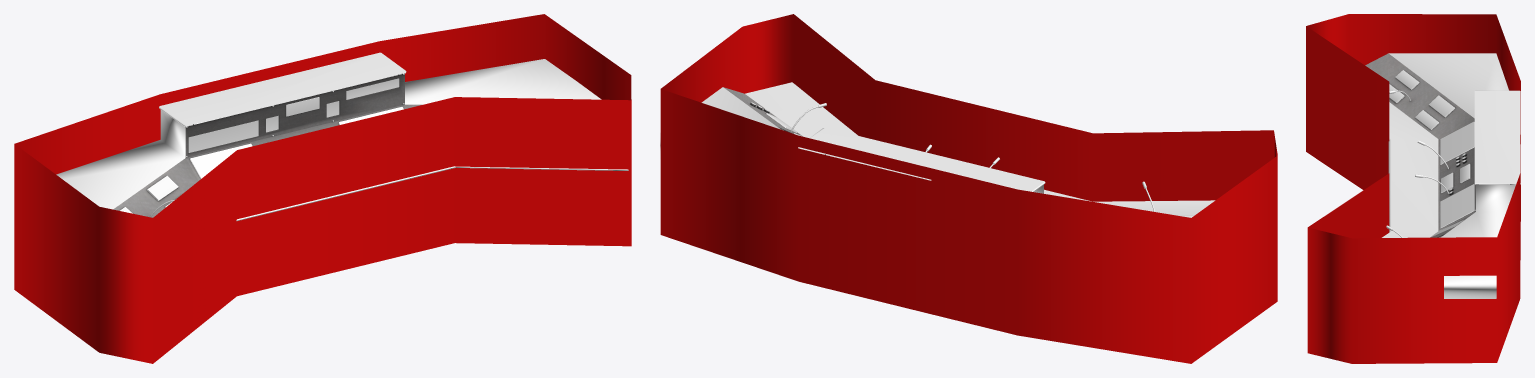
Rendered from leitstand.fbx.
3 views of the same model, side by side, from view 1: azimuth 30°, elevation 25°; view 2: azimuth 150°, elevation 25°; view 3: azimuth 270°, elevation 25° (orthographic). The views are drawn at different scales.
Visible parts, largest first — view 1: colmesh, leitstand; view 2: colmesh, leitstand; view 3: colmesh, leitstand, kleinteile.
Boxes of the visible parts, left/top/right/bottom form: colmesh: left=14, top=14, right=631, bottom=363; leitstand: left=56, top=52, right=628, bottom=221; colmesh: left=660, top=14, right=1277, bottom=363; leitstand: left=660, top=82, right=1215, bottom=217; colmesh: left=1306, top=14, right=1520, bottom=363; leitstand: left=1365, top=53, right=1520, bottom=298; kleinteile: left=1386, top=90, right=1475, bottom=237.
Size of the model in its own units: 518 by 136 by 210.
